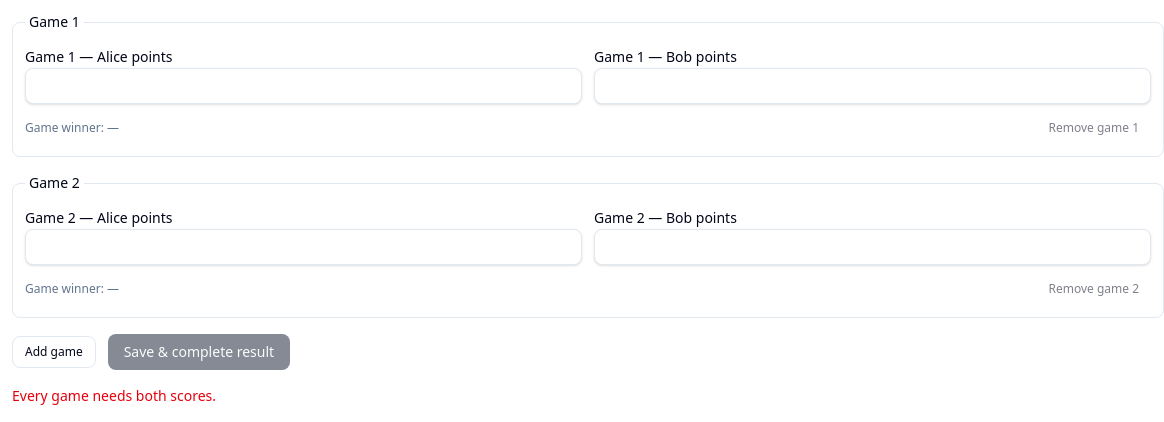
Test: MatchScoring › derives the game winner from the scores
Type "21" into the number field labelled "Game 1 — Alice points". click: (304, 86)
box: [25,68,582,104]
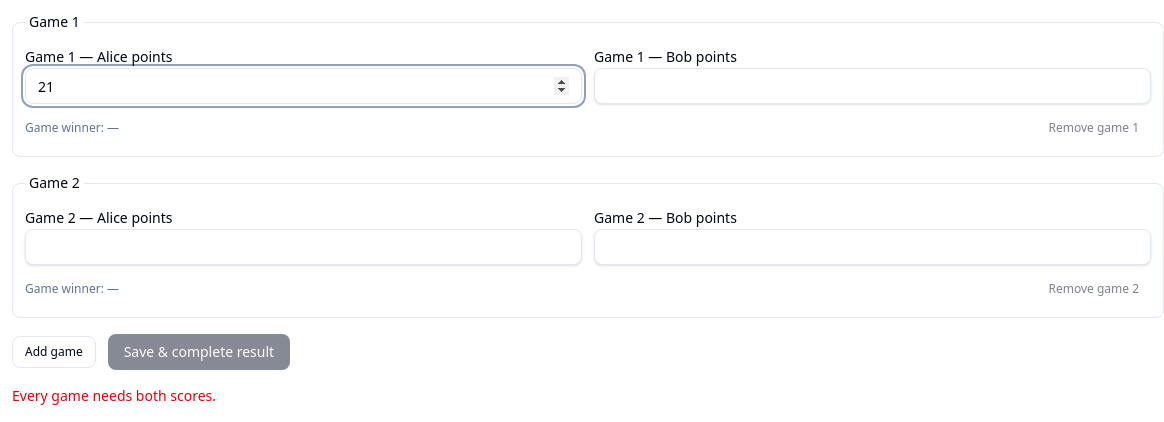
Type "18" into the number field labelled "Game 1 — Bob points". click: (872, 86)
box: [594,68,1151,104]
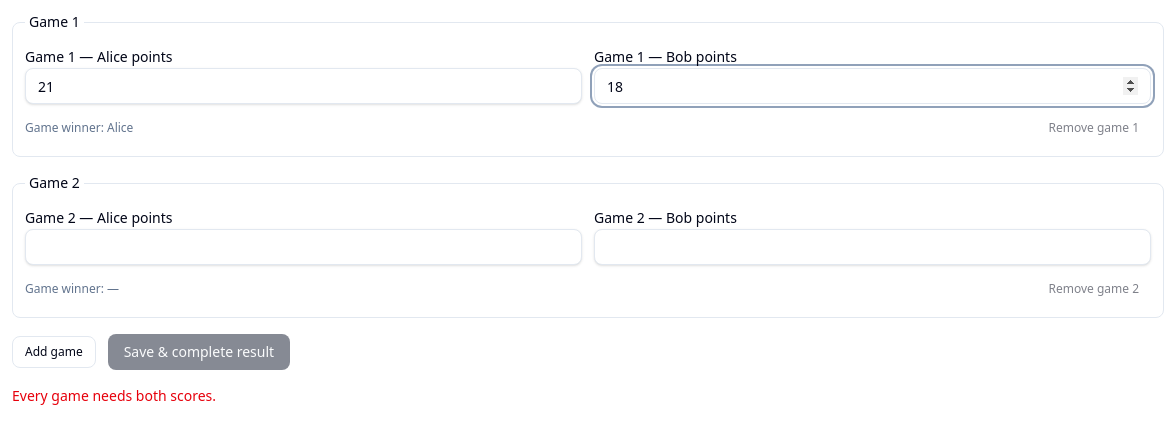
Expected: the text with test id "game-1-winner" reads "Game winner: Alice", [25,119,133,136]
